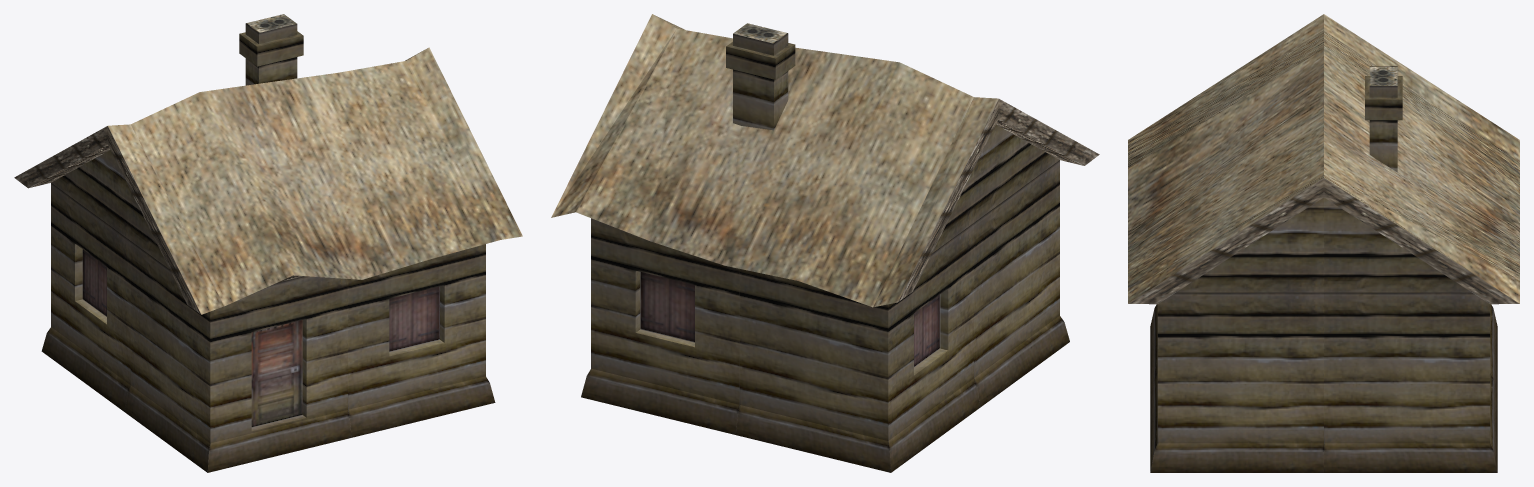
File: s44_b_house_3_1.dae
3 renders of one model, left to right at view 1: azimuth 30°, elevation 25°; view 2: azimuth 150°, elevation 25°; view 3: azimuth 270°, elevation 25°, orthographic. The views are drawn at different scales.
Visible parts, largest first — view 1: s44_b_house_1_1; view 2: s44_b_house_1_1; view 3: s44_b_house_1_1.
Boxes of the visible parts, x1=… form: s44_b_house_1_1: x1=14, y1=14, x2=522, y2=472; s44_b_house_1_1: x1=551, y1=14, x2=1099, y2=472; s44_b_house_1_1: x1=1128, y1=14, x2=1519, y2=472.
Bounding box in the file's own units: 56 × 56.55 × 54.08.
Materials: 1 (1 with a texture image).
